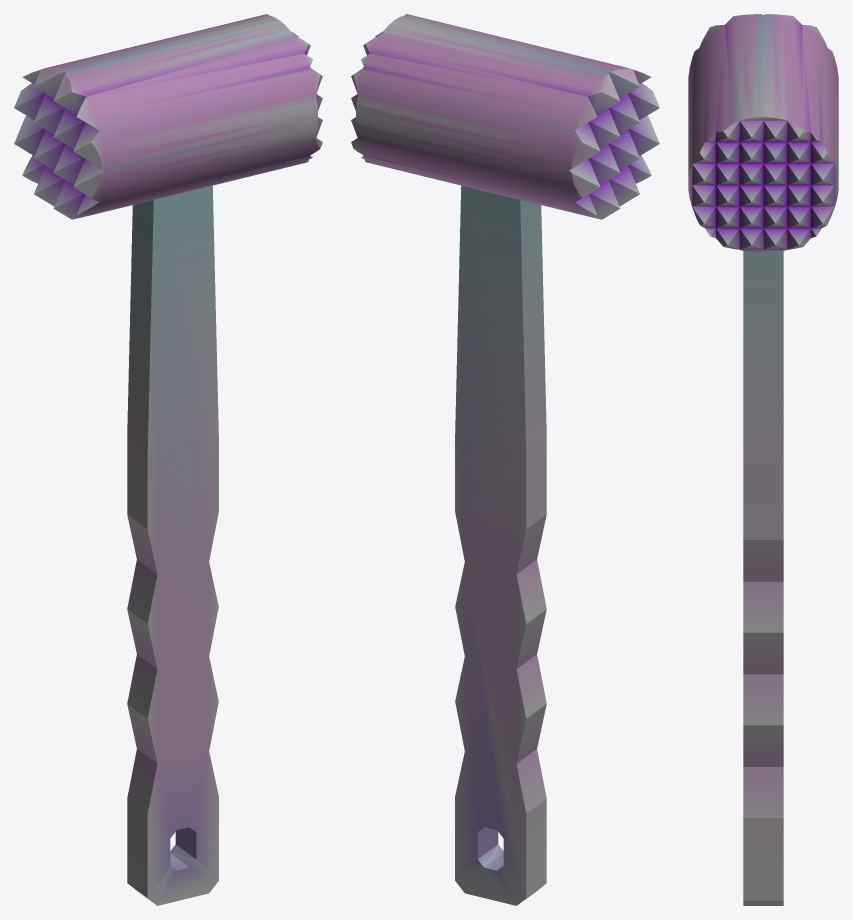
The picture shows the model from 3 angles, left to right: view 1: azimuth 30°, elevation 25°; view 2: azimuth 150°, elevation 25°; view 3: azimuth 270°, elevation 25°; orthographic projection. The views are drawn at different scales.
Visible parts, largest first — view 1: handle, head; view 2: handle, head; view 3: head, handle.
Part boxes in pixels (box(x1,y1,x2,y2)): handle: box(127, 185, 218, 905); head: box(14, 14, 322, 219); handle: box(455, 185, 546, 905); head: box(351, 14, 659, 219); head: box(688, 14, 838, 253); handle: box(743, 251, 783, 905).
Size of the model in its own units: 0.077 by 0.25 by 0.0412.
